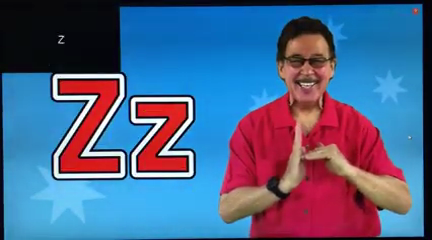Z: (270, 112, 354, 200)
